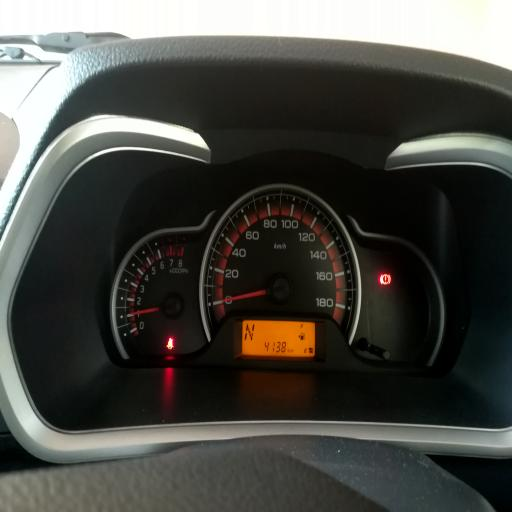belt: (167, 337, 174, 350)
brake_system_fault: (380, 273, 392, 287)
tachometer: (111, 227, 200, 356)
